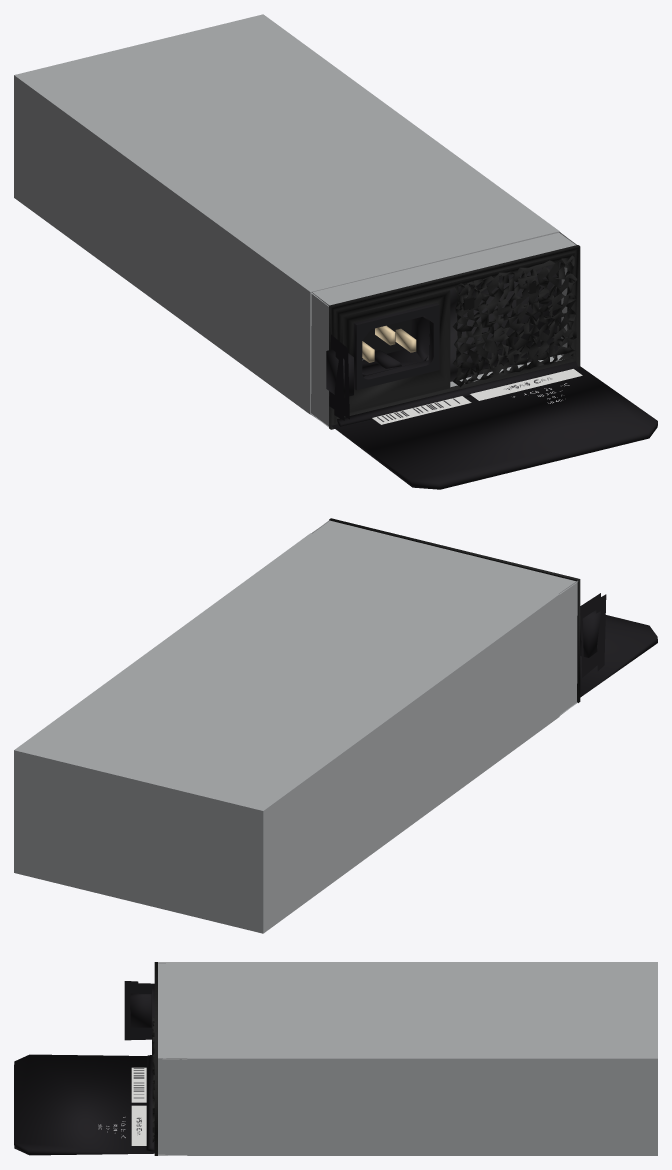
The model's file is PWR-C6-125WAC.far.glb.
3 views of the same model, one above another, from view 1: azimuth 30°, elevation 25°; view 2: azimuth 150°, elevation 25°; view 3: azimuth 270°, elevation 25° (orthographic). The views are drawn at different scales.
Parts seen in each view (by area): view 1: Body_far; view 2: Body_far; view 3: Body_far.
Part boxes in pixels (x1,y1,x2,y2): Body_far: (14,14,657,489); Body_far: (14,518,657,933); Body_far: (14,962,657,1155).
Bounding box in the file's own units: 0.0864 × 0.0395 × 0.2367.
2 materials, 1 textured.
